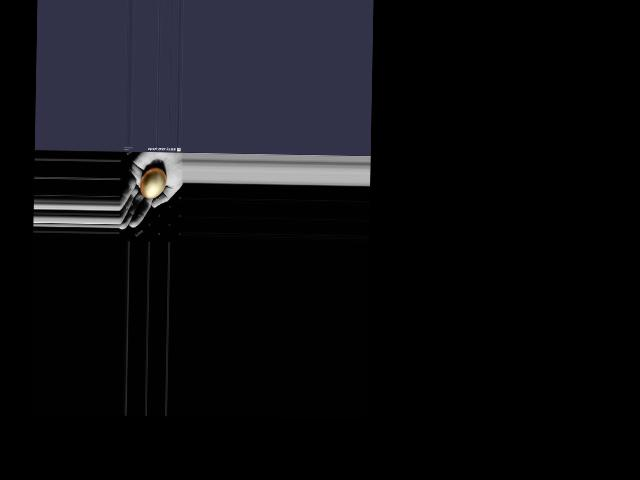egg: (139, 167, 165, 199)
